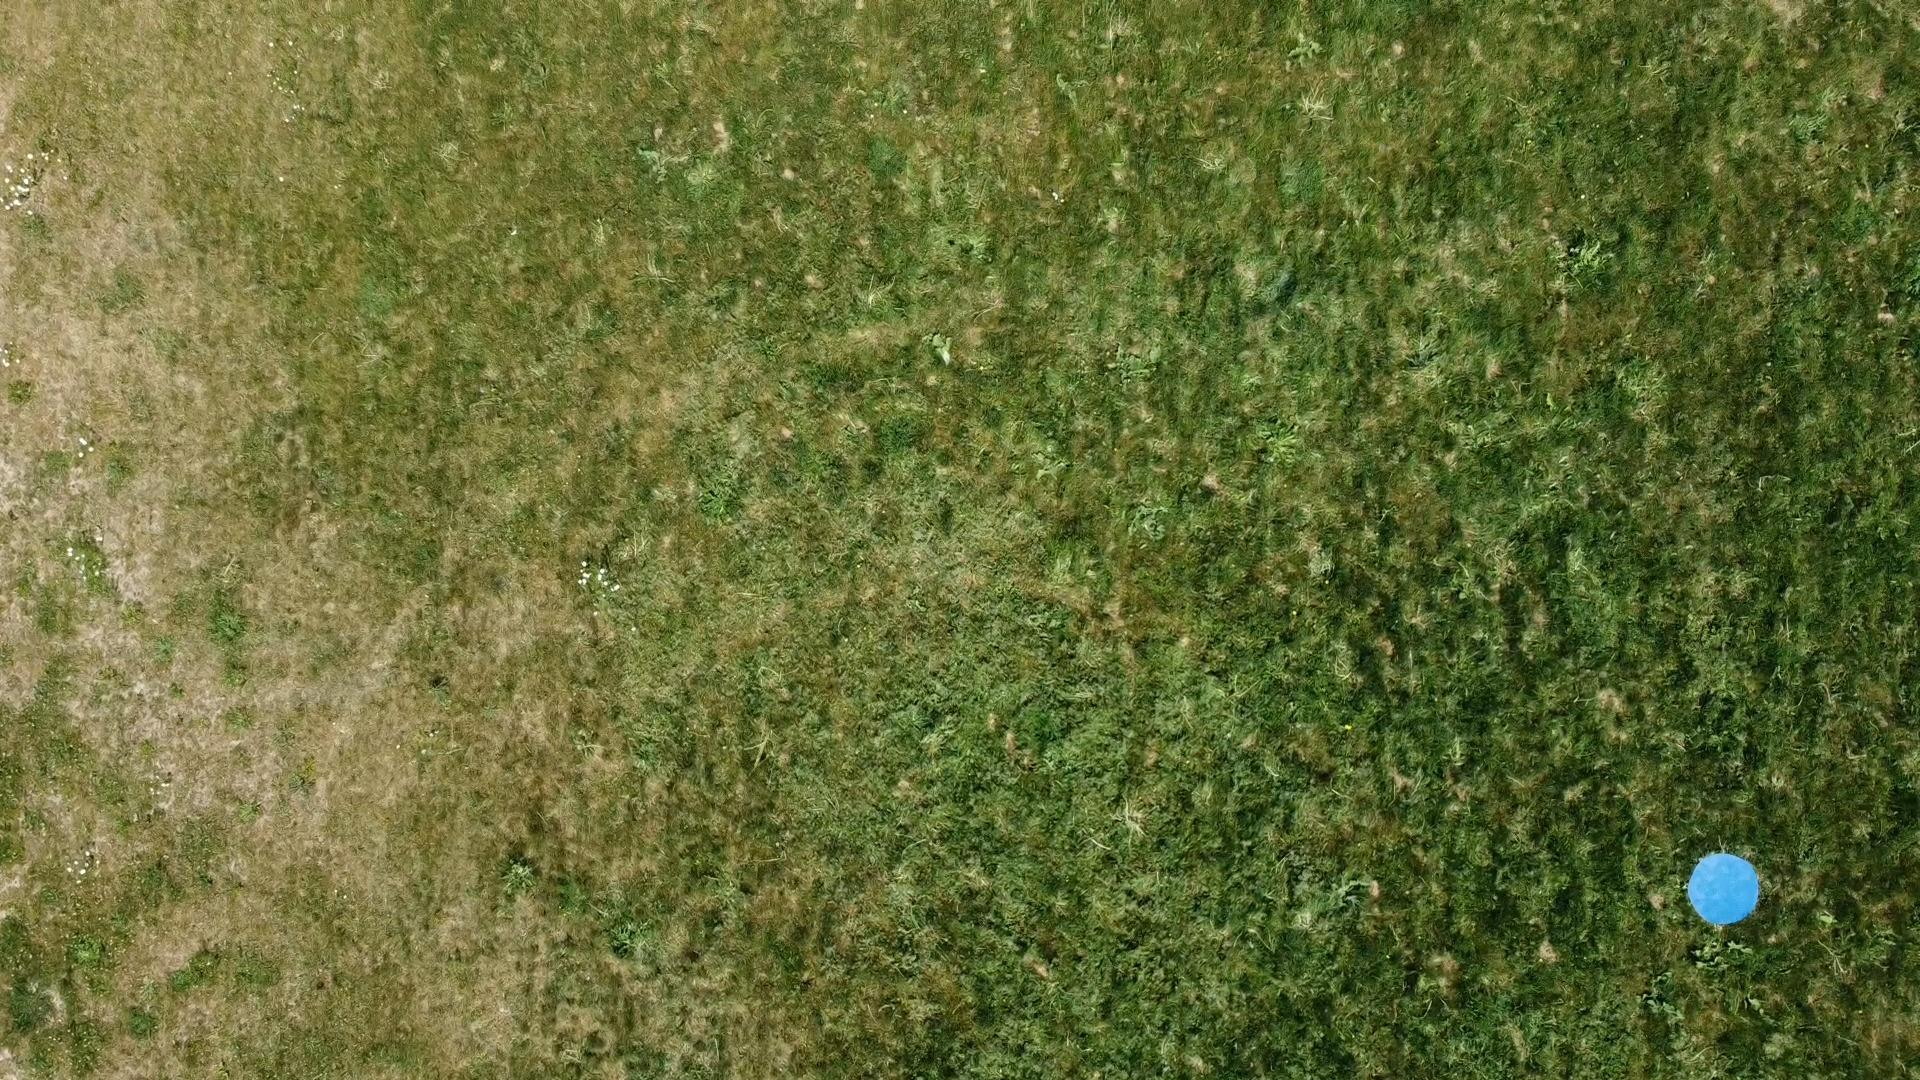Blue: (1687, 851, 1762, 926)
